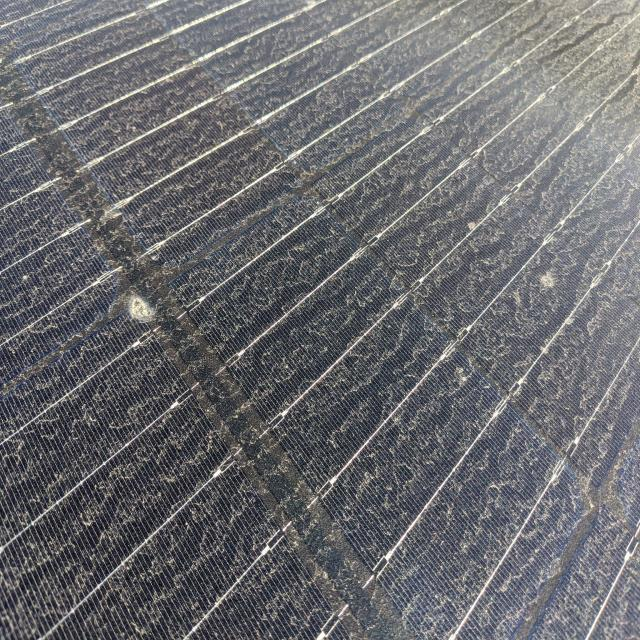cracked: (1, 0, 638, 640)
